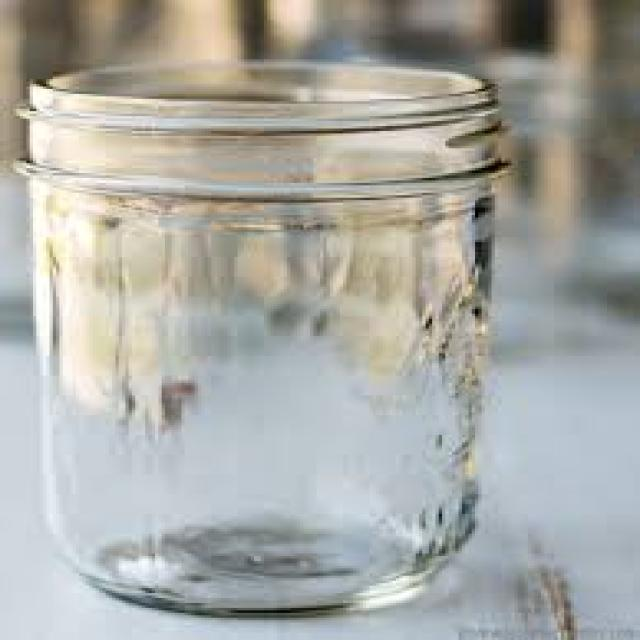glass: (10, 54, 505, 618)
